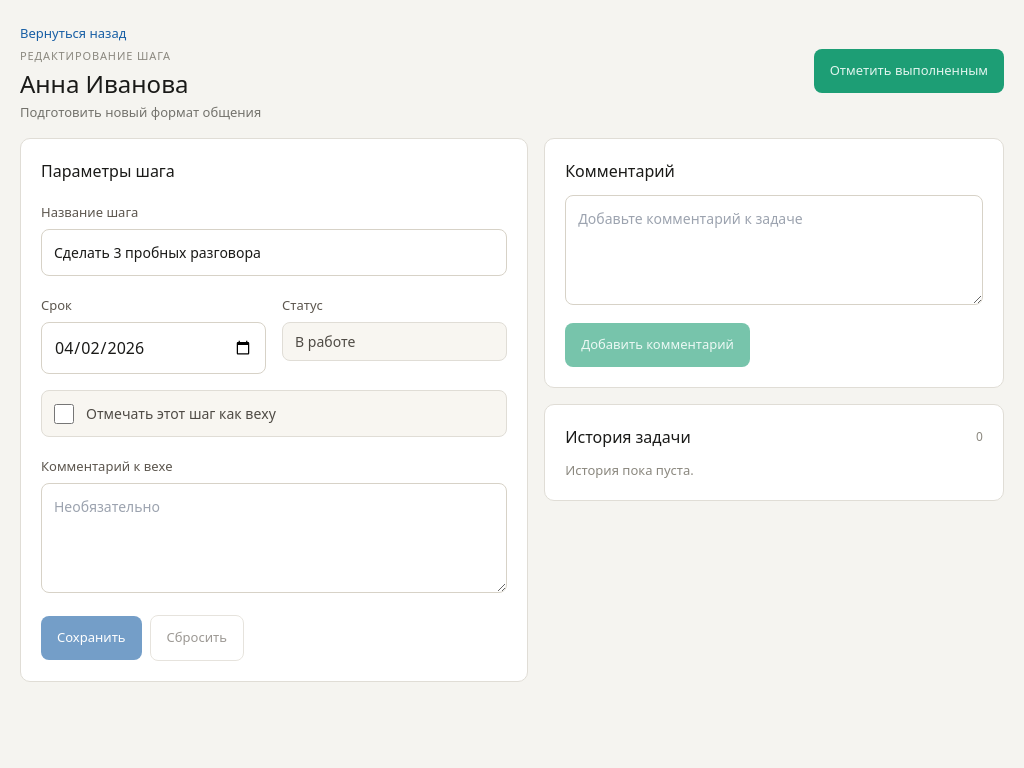
PublicCoachingStepPage › saves client step edits and allows adding a comment
Replace the text in the field showing "Сделать 3 пробных разговора" with "Обновлённый шаг". click: (274, 252)
box: 41,229 -> 507,276
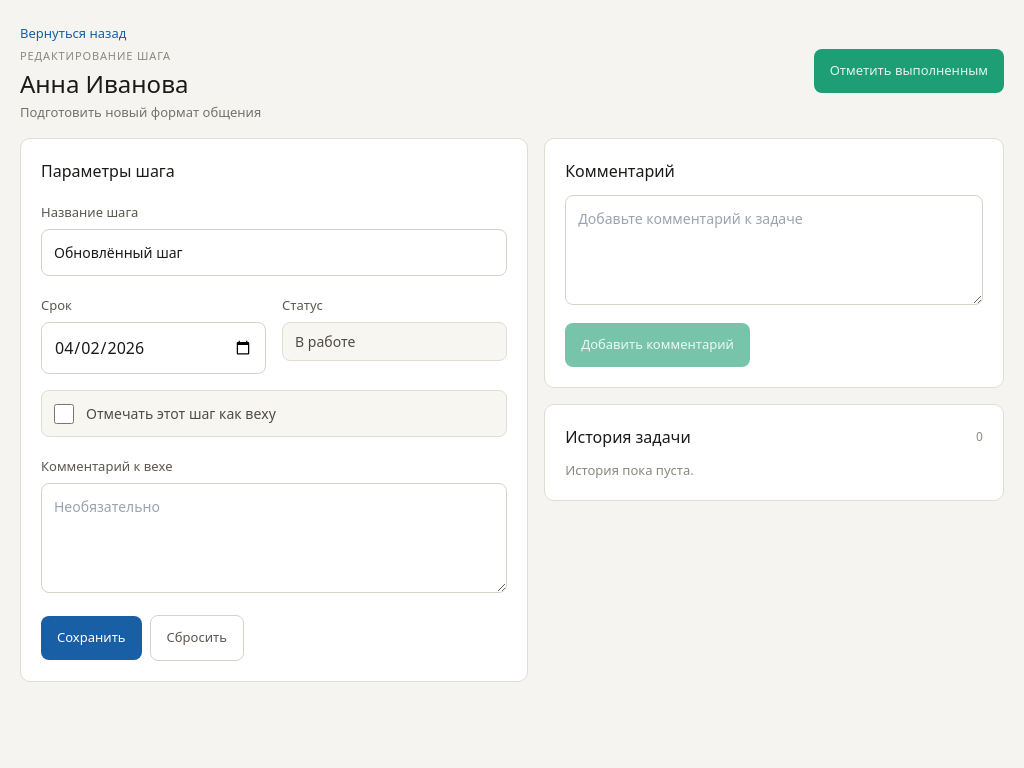
Type "2026-04-03" into the date field named "Срок". click: (154, 348)
box: 41,322 -> 266,374
Click the checkbox labelled "Отмечать этот шаг как веху". click: click(64, 414)
box: 54,404 -> 74,424
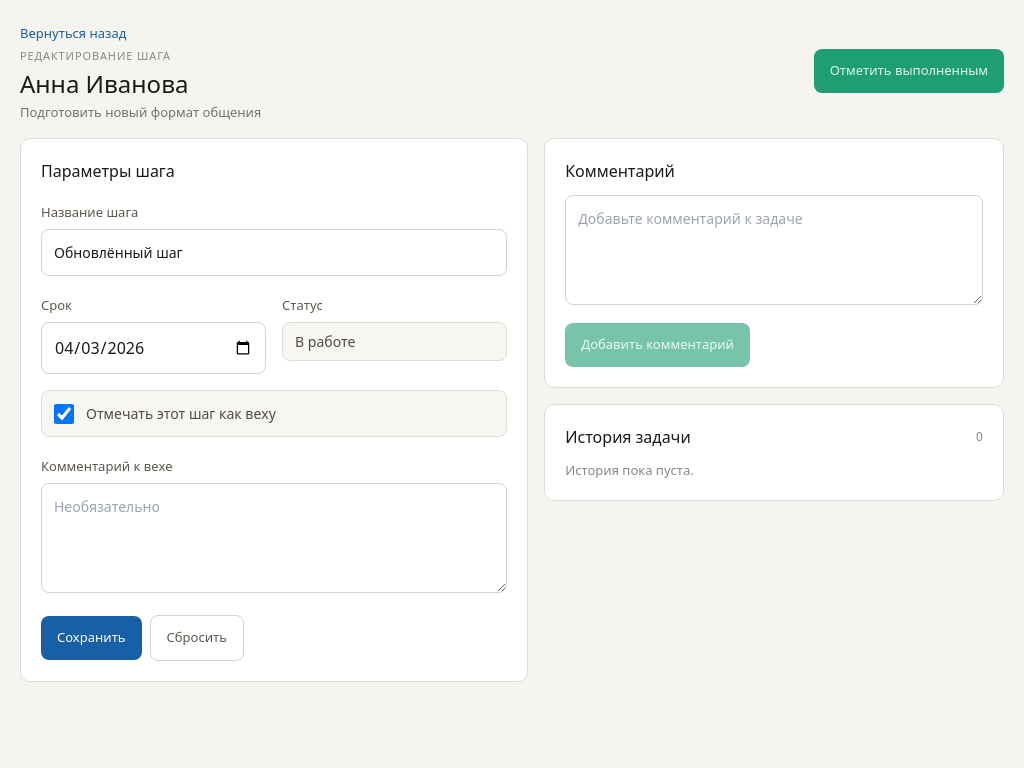
Type "Важно" into the text box named "Комментарий к вехе". click: (274, 538)
box: 41,483 -> 507,593
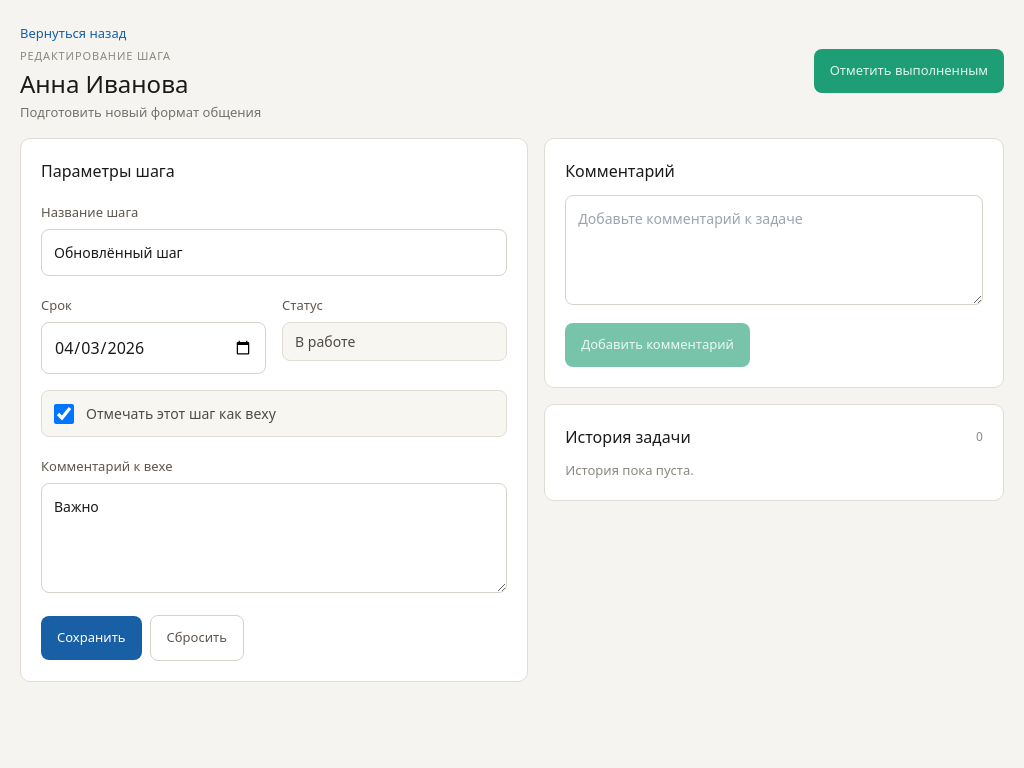
Click the button "Сохранить". click: click(91, 638)
box: 41,616 -> 142,660
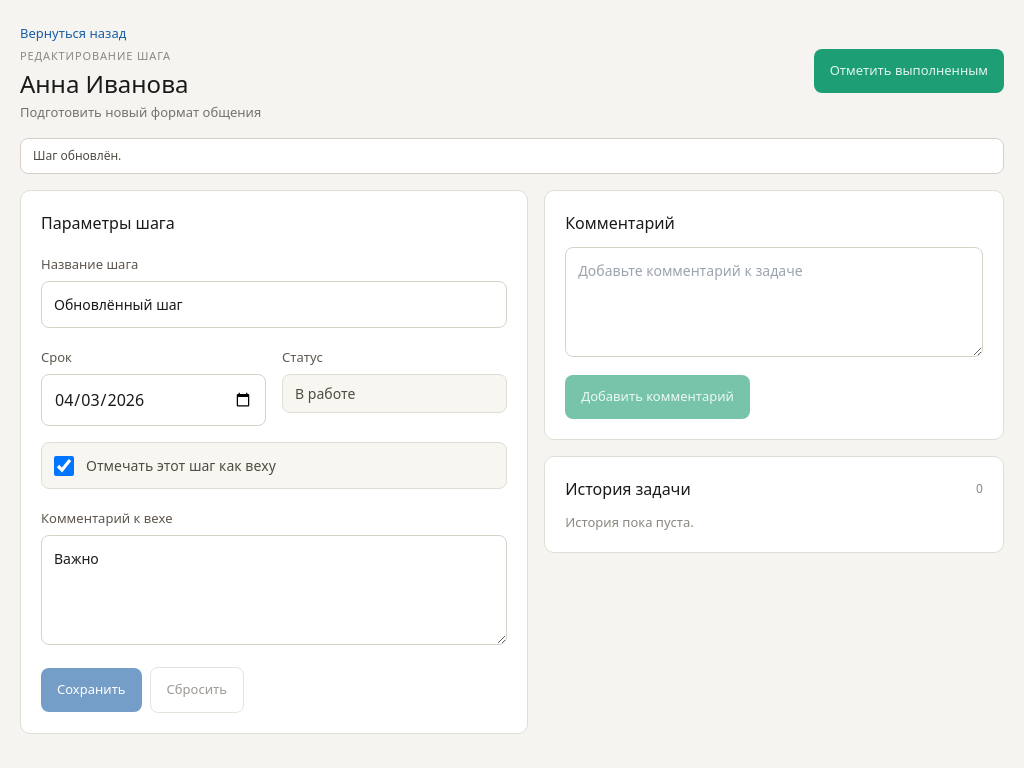
Type "Мой комментарий" into the text box with placeholder "Добавьте комментарий к задаче". click: (774, 302)
box: 565,247 -> 983,357
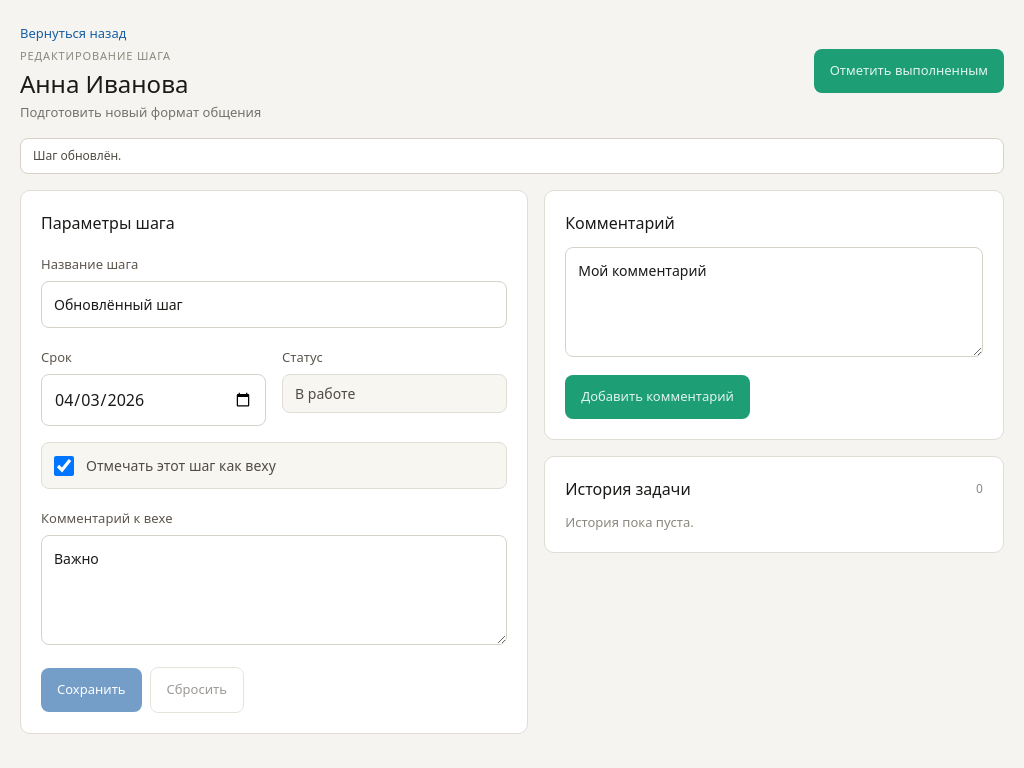
Click the button "Добавить комментарий". click: click(658, 397)
box: 565,375 -> 750,418
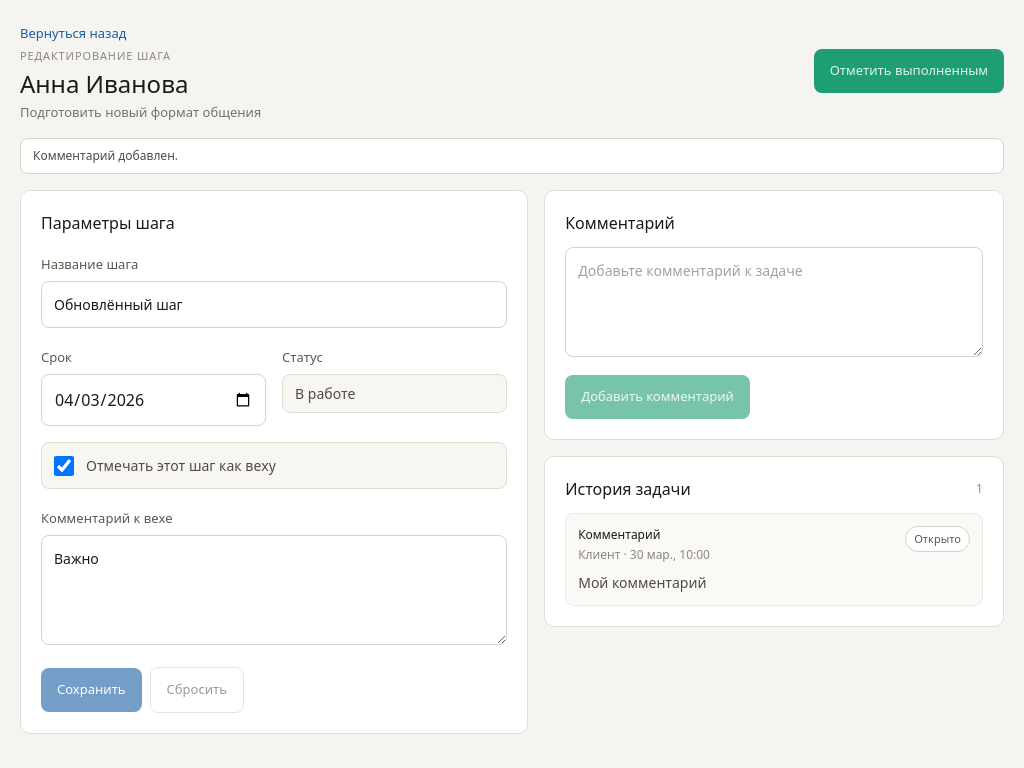
Expected: the 1st text "Комментарий" is shown, 565,212 -> 675,234
Result: the text "Мой комментарий" is shown at 578,572 -> 706,592
